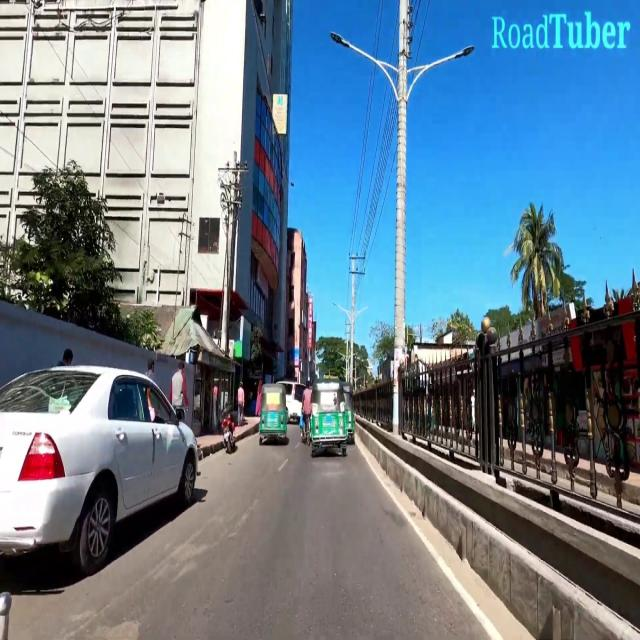white: (0, 362, 201, 570)
